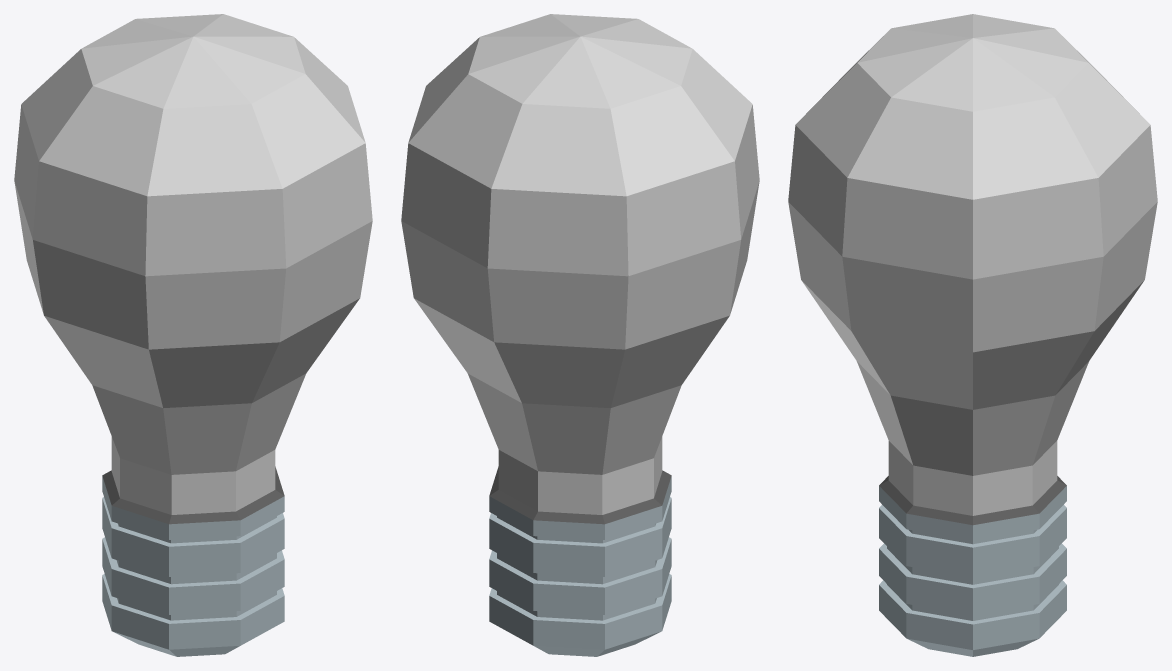
File: bulb_off.glb
3 views of the same model, side by side, from view 1: azimuth 30°, elevation 25°; view 2: azimuth 150°, elevation 25°; view 3: azimuth 270°, elevation 25° (orthographic).
Visible parts, largest first — view 1: Light_bulb_01_Circle.008; view 2: Light_bulb_01_Circle.008; view 3: Light_bulb_01_Circle.008.
Part boxes in pixels (left/top/right/bottom): Light_bulb_01_Circle.008: left=14, top=14, right=372, bottom=656; Light_bulb_01_Circle.008: left=401, top=14, right=759, bottom=656; Light_bulb_01_Circle.008: left=788, top=14, right=1157, bottom=656.
Bounding box in the file's own units: 0.2294 × 0.4174 × 0.2294.
